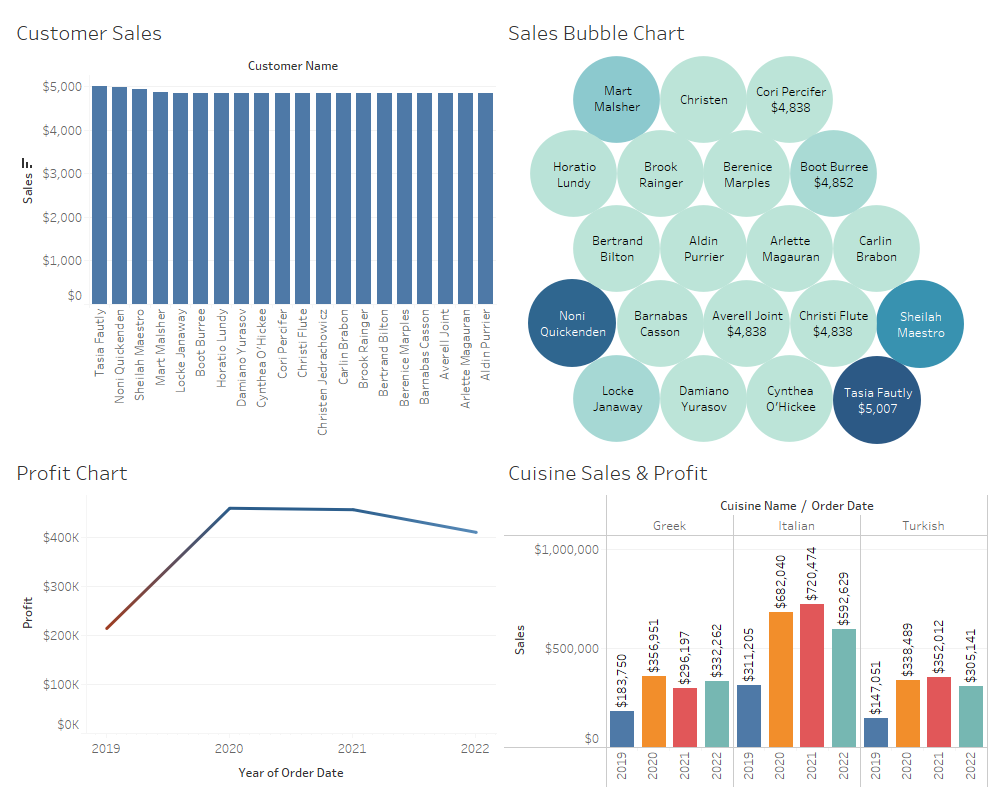

What the dashboard file says about the page in this screenshot:
{"tool":"tableau","page":{"name":"Customers","canvas":[1000,800],"ordinal":0},"visuals":[{"type":"worksheet","title":"Customer Sales","mark":"Automatic","rows":["Sales"],"cols":["Customer Name"],"box":[8,8,492,440]},{"type":"worksheet","title":"Sales Bubble Chart","mark":"Circle","box":[500,8,492,440]},{"type":"worksheet","title":"Profit Chart","mark":"Automatic","rows":["vtsum"],"cols":["Order Date"],"box":[8,448,492,344]},{"type":"worksheet","title":"Cuisine Sales & Profit","mark":"Bar","rows":["Sales"],"cols":["Cuisine Name","Order Date"],"box":[500,448,492,344]}]}

Visuals, with their boxes in screenshot pixels (x1, y1, x2, y2), scaled from the page's 1000x800 canvas onto the 1000x800 screenshot:
"Customer Sales" worksheet: 8 8 500 448
"Sales Bubble Chart" worksheet (Circle marks): 500 8 992 448
"Profit Chart" worksheet: 8 448 500 792
"Cuisine Sales & Profit" worksheet (Bar marks): 500 448 992 792
